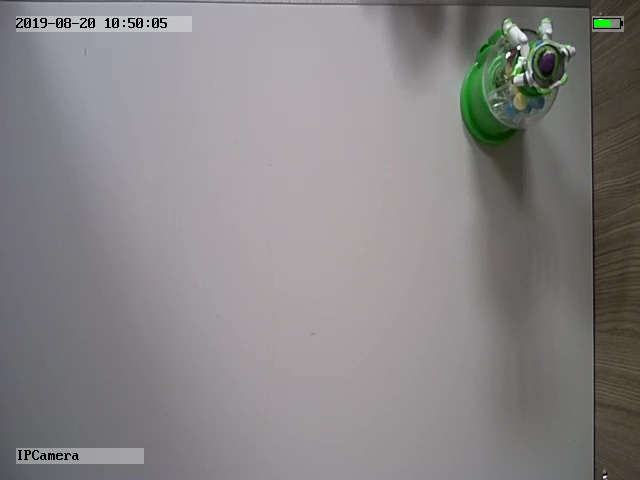buzz: (458, 15, 577, 150)
